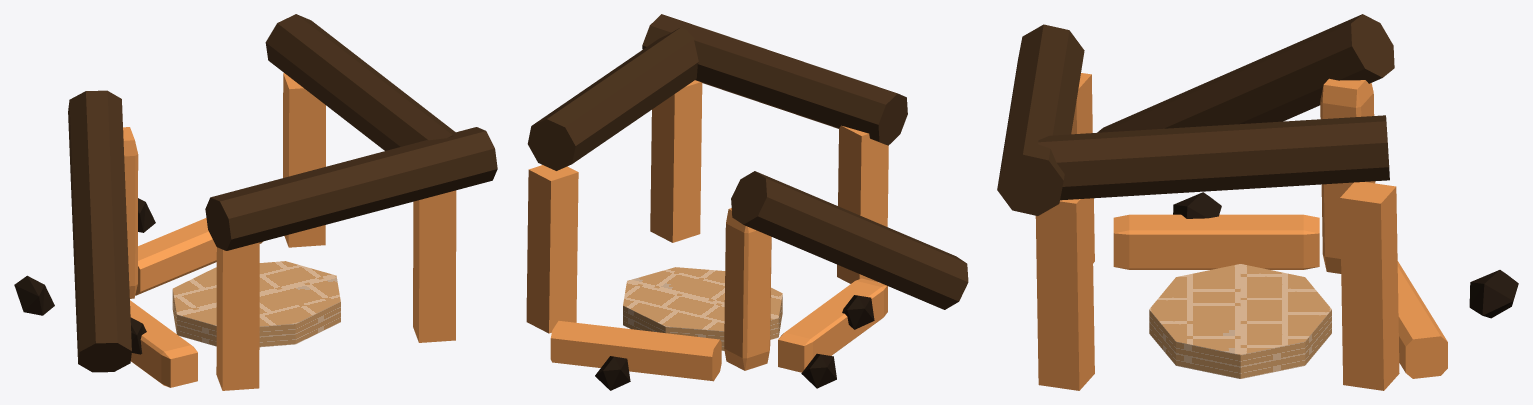
Rendered from Henge.glb.
3 views of the same model, side by side, from view 1: azimuth 30°, elevation 25°; view 2: azimuth 150°, elevation 25°; view 3: azimuth 270°, elevation 25° (orthographic). The views are drawn at different scales.
Visible parts, largest first — view 1: Cylinder.001, Cylinder.002, Cylinder, Cylinder.003, Cube.007, Cube.006, Cube.008, Cube.002, Cube.001, Cube.005, Cube.003, Cube.004; view 2: Cylinder.002, Cylinder.001, Cylinder, Cube.008, Cube.007, Cube.002, Cylinder.003, Cube.005, Cube.001, Cube.006, Cube.004, Cube.003 (+1 smaller); view 3: Cylinder, Cylinder.003, Cylinder.002, Cube.008, Cube.001, Cylinder.001, Cube.007, Cube.005, Cube.002, Cube.004, Cube.006, Cube.
Part boxes in pixels (x1,y1,x2,y2): Cylinder.001: [205, 127, 497, 250]; Cylinder.002: [68, 90, 131, 372]; Cylinder: [265, 14, 455, 150]; Cylinder.003: [172, 261, 340, 347]; Cube.007: [413, 190, 456, 342]; Cube.006: [216, 242, 259, 390]; Cube.008: [283, 73, 325, 247]; Cube.002: [135, 218, 263, 295]; Cube.001: [130, 300, 197, 387]; Cube.005: [123, 127, 138, 298]; Cube.003: [14, 275, 54, 315]; Cube.004: [138, 198, 155, 232]; Cylinder.002: [731, 171, 968, 309]; Cylinder.001: [642, 14, 907, 145]; Cylinder: [527, 27, 698, 170]; Cube.008: [526, 165, 578, 333]; Cube.007: [650, 80, 702, 242]; Cube.002: [550, 321, 721, 381]; Cylinder.003: [623, 267, 782, 350]; Cube.005: [724, 208, 771, 370]; Cube.001: [778, 278, 887, 372]; Cube.006: [837, 125, 888, 283]; Cube.004: [595, 356, 630, 390]; Cube.003: [801, 353, 836, 388]; Cylinder: [1038, 115, 1389, 200]; Cylinder.003: [1149, 264, 1331, 378]; Cylinder.002: [1097, 14, 1394, 132]; Cube.008: [1340, 182, 1399, 390]; Cube.001: [1113, 214, 1319, 269]; Cylinder.001: [997, 24, 1084, 215]; Cube.007: [1035, 198, 1094, 390]; Cube.005: [1320, 78, 1375, 273]; Cube.002: [1397, 261, 1447, 378]; Cube.004: [1469, 270, 1518, 318]; Cube.006: [1071, 73, 1094, 263]; Cube: [1173, 192, 1221, 218].
Bounding box in the file's own units: 22.76 × 13.69 × 23.87.
5 materials, 5 textured.
